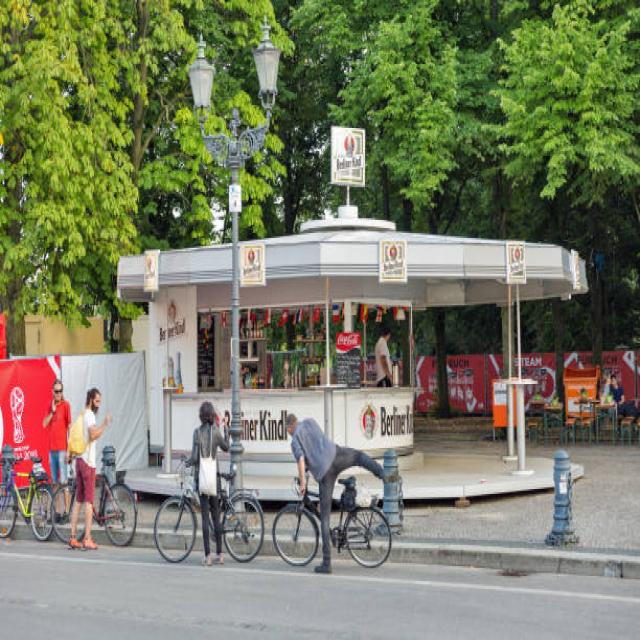Emperan: (88, 99, 621, 502)
